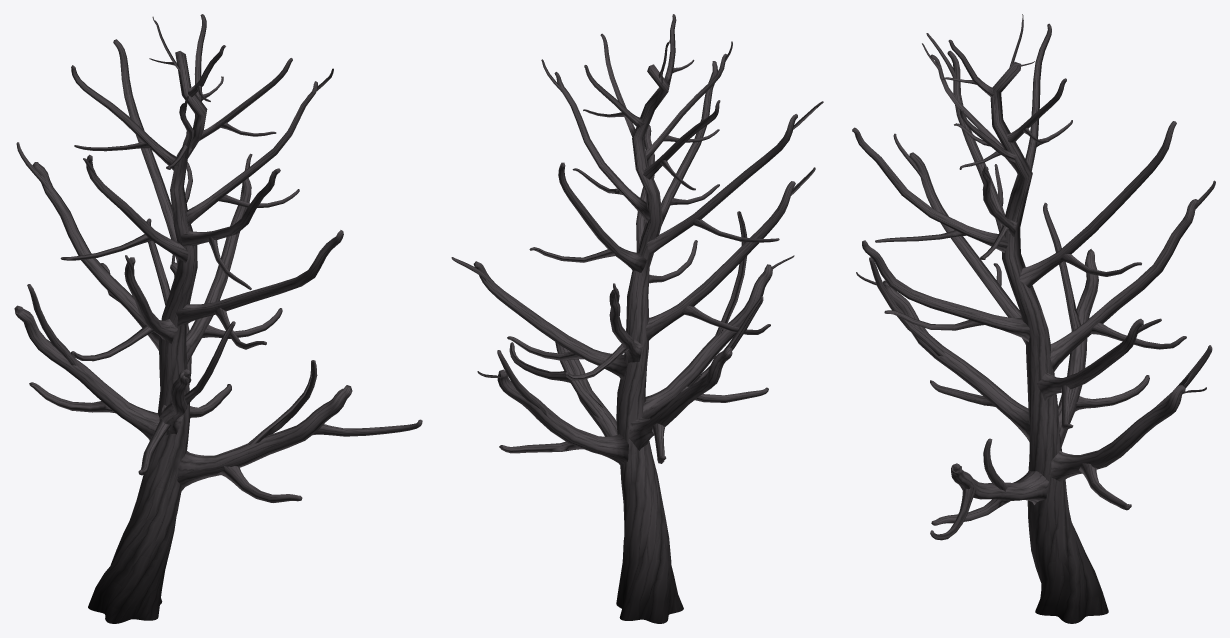
File: Nature_DeadTree_2.glb
The picture shows the model from 3 angles, left to right: view 1: azimuth 30°, elevation 25°; view 2: azimuth 150°, elevation 25°; view 3: azimuth 270°, elevation 25°; orthographic projection. The views are drawn at different scales.
Visible parts, largest first — view 1: DeadTree_2; view 2: DeadTree_2; view 3: DeadTree_2.
Boxes of the visible parts, x1,y1,x2,y2 form: DeadTree_2: [14, 14, 422, 623]; DeadTree_2: [451, 14, 823, 623]; DeadTree_2: [852, 14, 1215, 623].
Size of the model in its own units: 6.73 by 11.49 by 6.38.
1 material, 1 textured.
